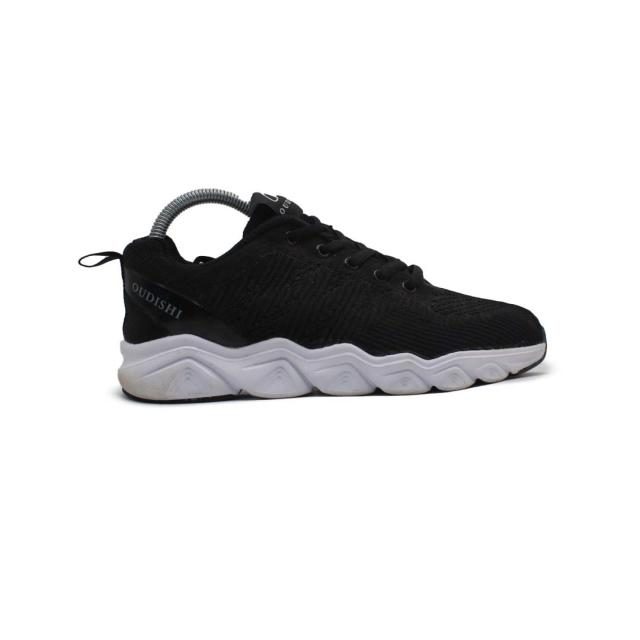heel: (72, 197, 166, 340)
midsole: (116, 335, 550, 401)
uppersole: (164, 187, 550, 349)
